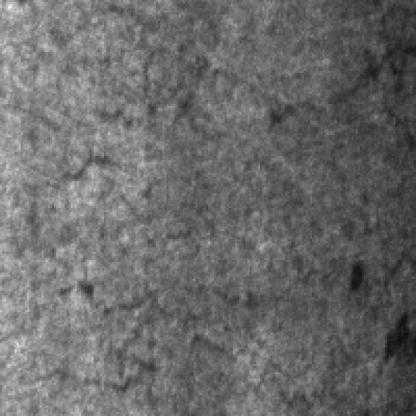crazing: (23, 146, 281, 402), (4, 37, 414, 181)
